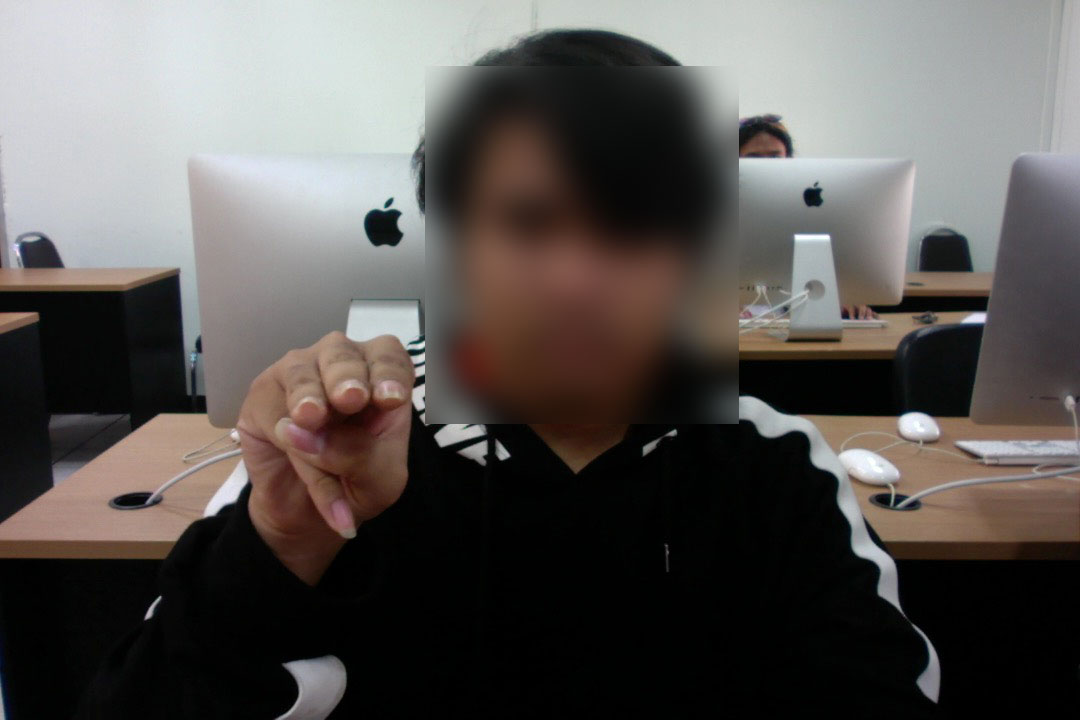mor: (234, 315, 420, 551)
